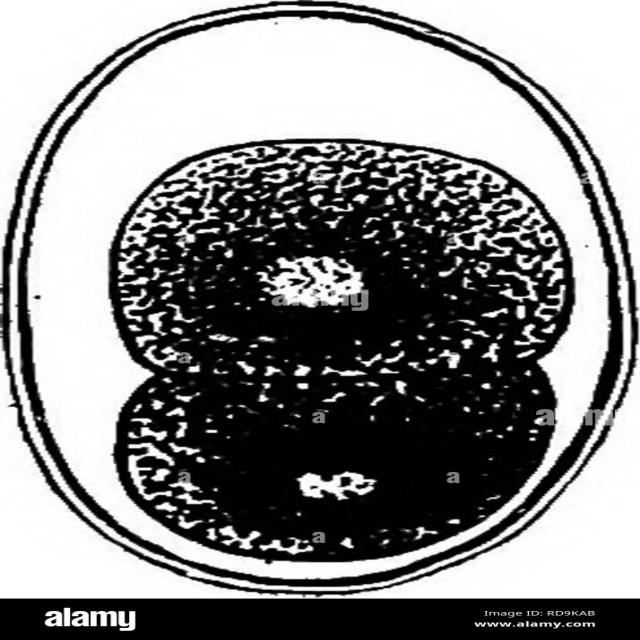Ancylostoma Spp: (0, 0, 634, 596)
